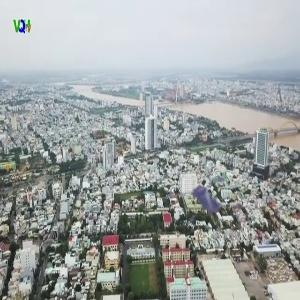drone: (166, 146, 264, 244)
